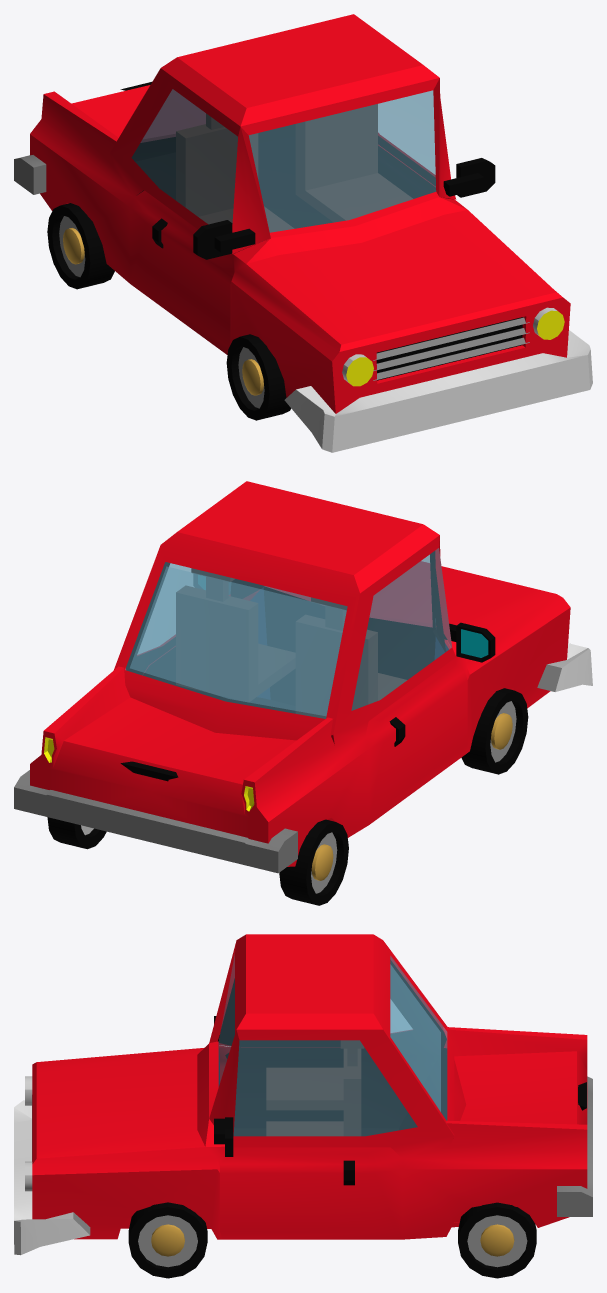
File: Carro.fbx
3 views of the same model, one above another, from view 1: azimuth 30°, elevation 25°; view 2: azimuth 150°, elevation 25°; view 3: azimuth 270°, elevation 25° (orthographic). The views are drawn at different scales.
Visible parts, largest first — view 1: Carro; view 2: Carro; view 3: Carro.
Part boxes in pixels (x1,y1,x2,y2): Carro: [14, 14, 592, 452]; Carro: [14, 481, 592, 905]; Carro: [14, 934, 592, 1278].
Size of the model in its own units: 297 by 256 by 546.
